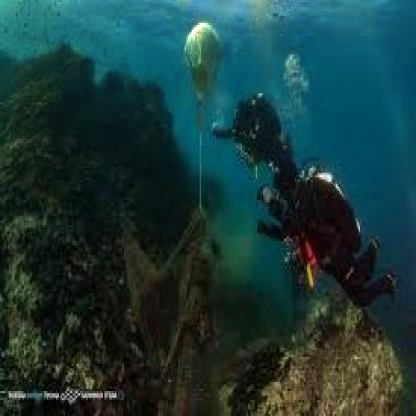net: (112, 198, 233, 416)
